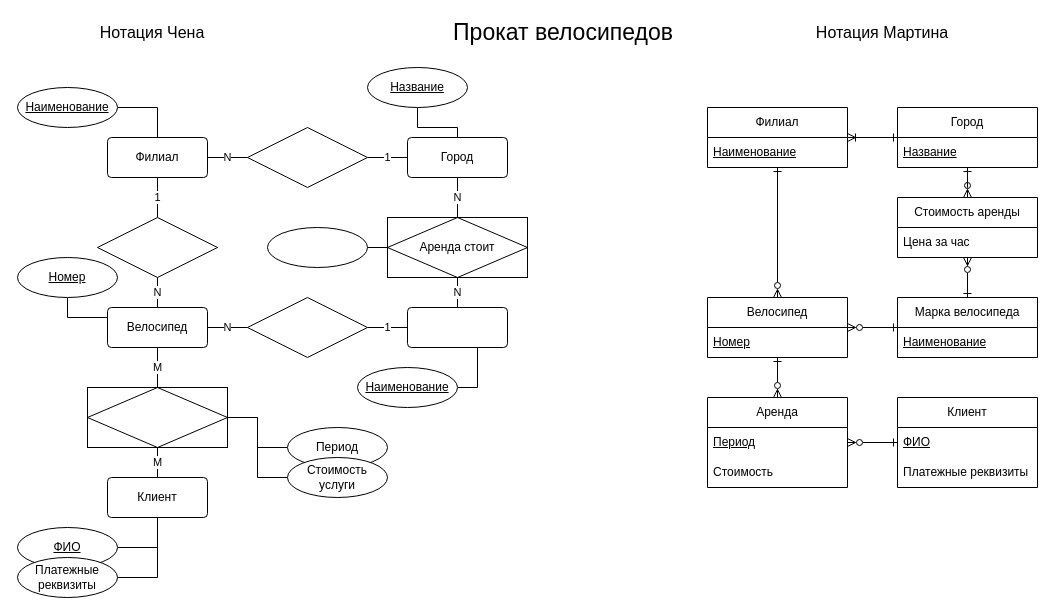
This 1055x615 diagram has some shape labels left out. Here are the shapes that lost their labels. From the top down, the centre of each, then its label:
point (307, 157): Находится
point (157, 247): Принадлежит
point (317, 247): Стоимость часа
point (307, 327): Является
point (457, 327): Марка
point (157, 417): Арендует
